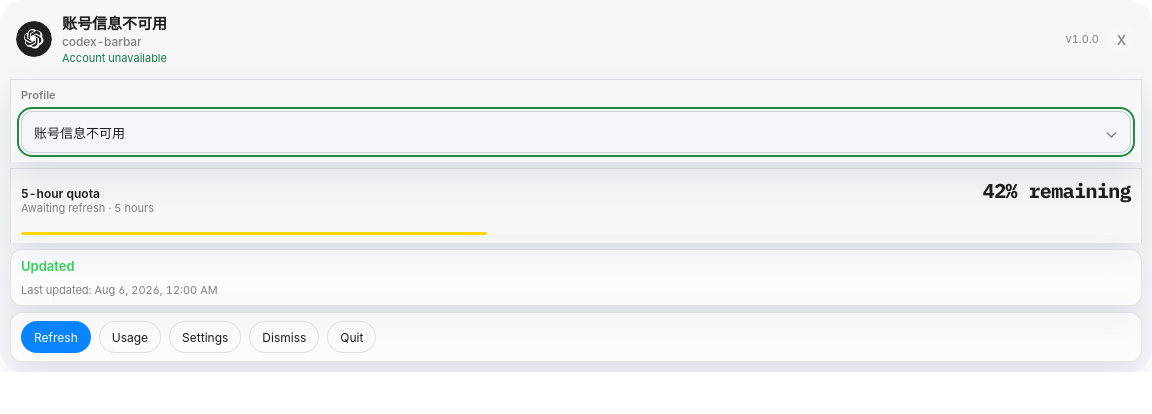
Test: TrayPanel › shows a switching status while the target cache waits for its refresh event
Click the button with aria-label "profile": (80, 132) x1=21 y1=111 x2=1131 y2=153
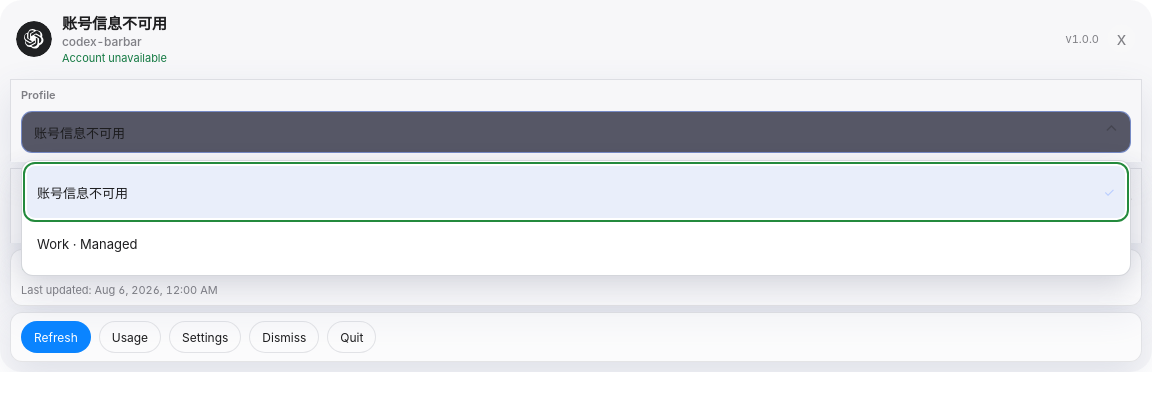
Click the option "Work · Managed": (87, 244) x1=37 y1=236 x2=138 y2=252
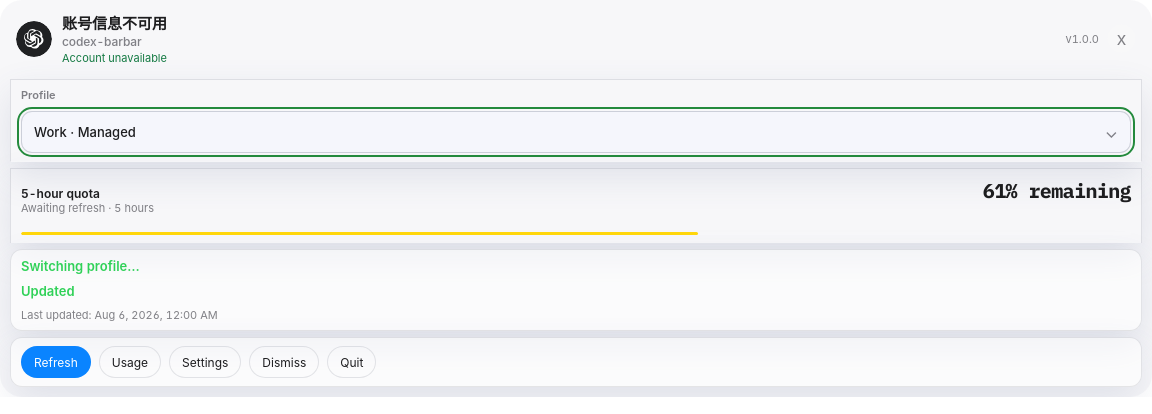
Now the text "Switching profile…" is shown, box x1=21 y1=258 x2=140 y2=274
Now the progress indicator named "61% remaining" is shown, box x1=21 y1=232 x2=1131 y2=235
